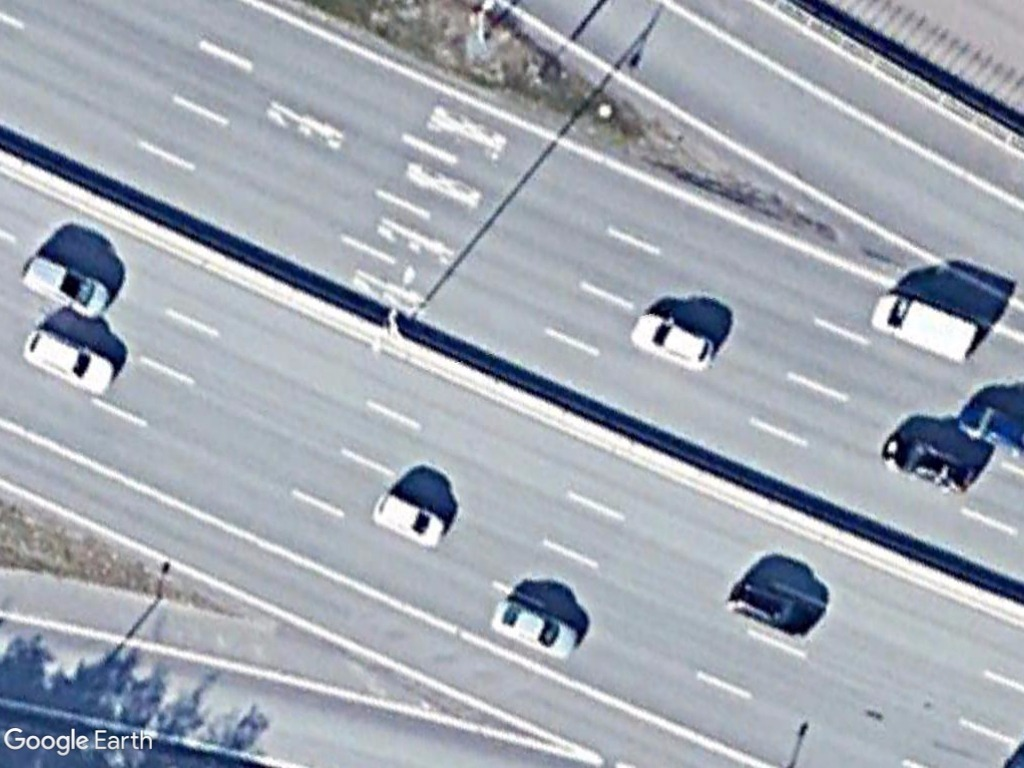car: (878, 424, 982, 502), (721, 574, 824, 645), (21, 325, 119, 397), (488, 597, 592, 663), (16, 253, 116, 320), (628, 310, 720, 372), (368, 491, 450, 552)
van: (868, 290, 983, 365)
